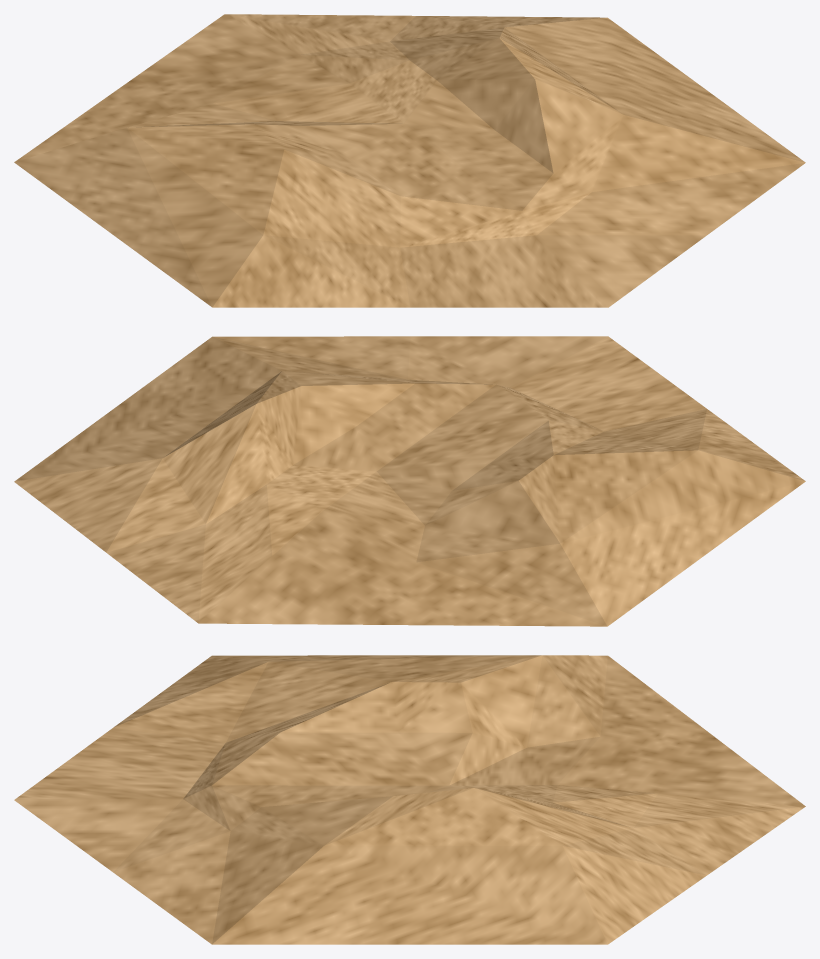
File: desert.obj
The picture shows the model from 3 angles, top to bottom: view 1: azimuth 30°, elevation 25°; view 2: azimuth 150°, elevation 25°; view 3: azimuth 270°, elevation 25°; orthographic projection.
Bounding box in the file's own units: 17.27 × 1.99 × 20.
Materials: 1 (1 with a texture image).
